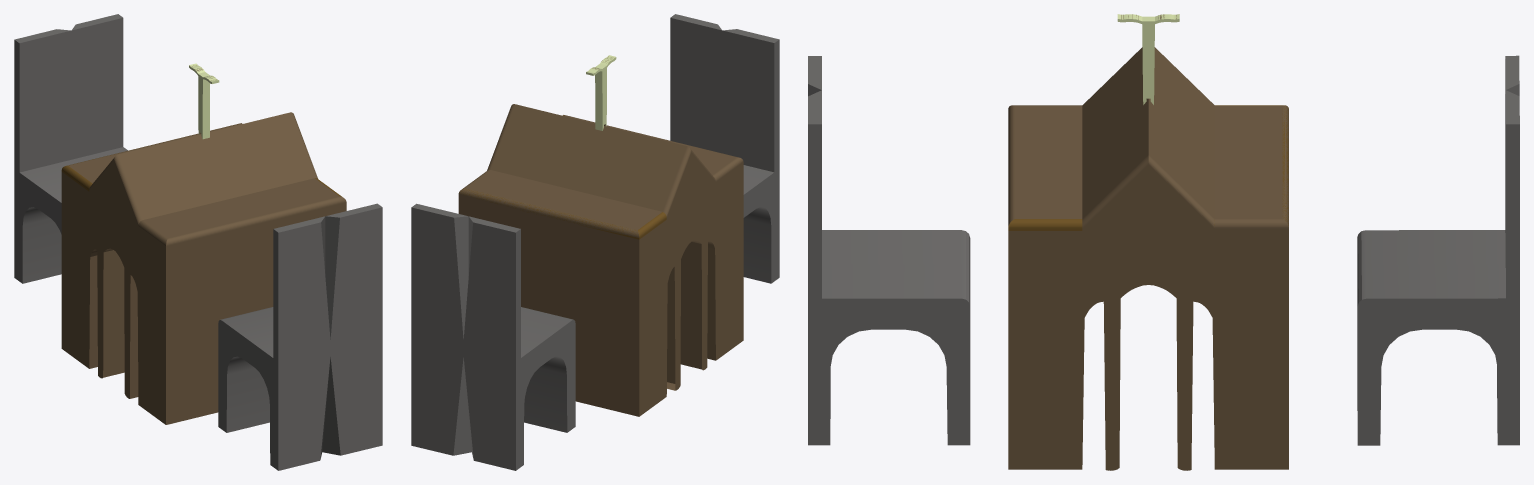
File: Mesa Biblioteca.glb
The picture shows the model from 3 angles, left to right: view 1: azimuth 30°, elevation 25°; view 2: azimuth 150°, elevation 25°; view 3: azimuth 270°, elevation 25°; orthographic projection. The views are drawn at different scales.
Visible parts, largest first — view 1: Mesa, Sillas; view 2: Mesa, Sillas; view 3: Mesa, Sillas.
Part boxes in pixels (x1=…): Mesa: x1=61, y1=63, x2=346, y2=424; Sillas: x1=14, y1=14, x2=382, y2=470; Mesa: x1=458, y1=55, x2=743, y2=416; Sillas: x1=411, y1=14, x2=779, y2=470; Mesa: x1=1008, y1=14, x2=1288, y2=470; Sillas: x1=808, y1=55, x2=1519, y2=445.
Size of the model in its own units: 3.47 by 5.38 by 8.78.
